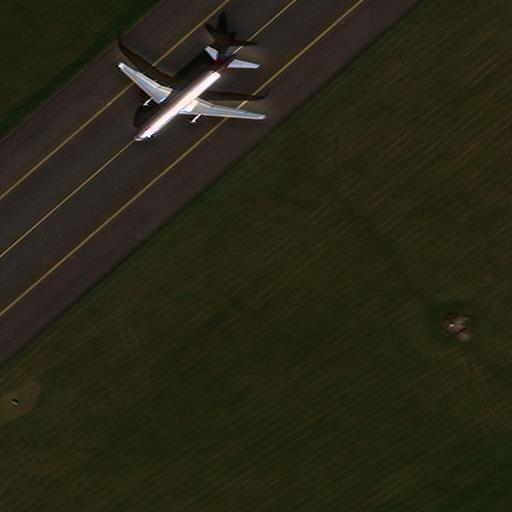Medium Civil Transport: (117, 53, 263, 140)
